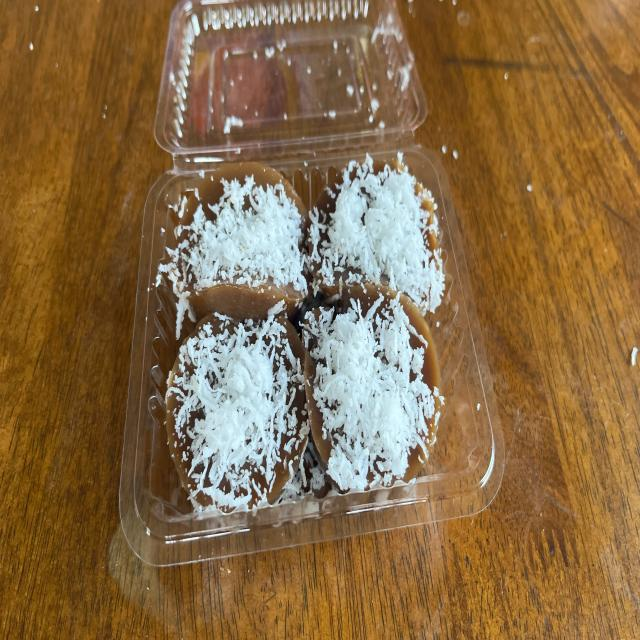Kuih lompang: (302, 282, 442, 491), (166, 313, 310, 513), (158, 162, 309, 338), (309, 153, 445, 316)
